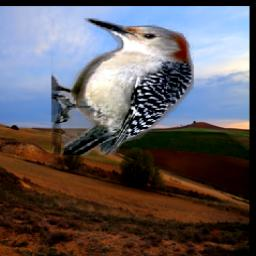Woodpecker: (50, 18, 193, 155)
